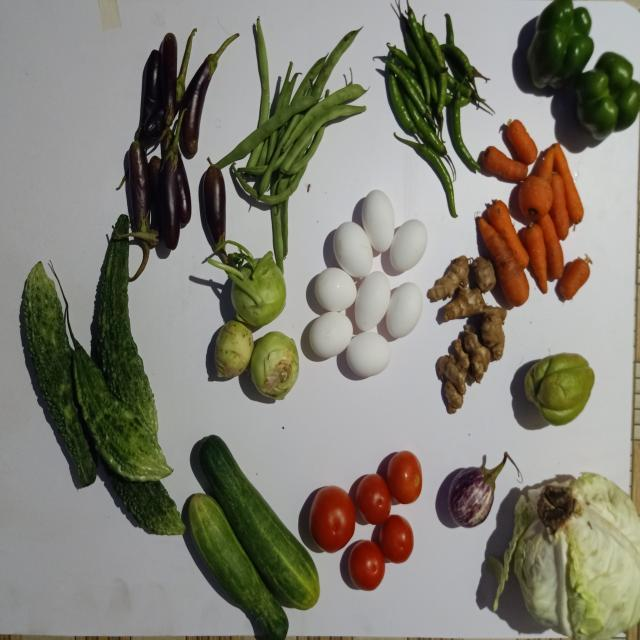Beans: (216, 94, 318, 168), (280, 103, 366, 171), (283, 83, 366, 148), (286, 124, 325, 174), (256, 16, 270, 126), (255, 180, 299, 205), (247, 141, 263, 166), (341, 84, 366, 97), (299, 168, 304, 177)
Bitter Gourd: (21, 261, 95, 487), (72, 340, 172, 482), (95, 236, 157, 437), (104, 464, 185, 535)
Brinjal: (179, 32, 238, 158), (128, 139, 150, 230), (160, 32, 177, 127), (164, 108, 184, 167)
Cabbage: (490, 473, 640, 640)
Capsicum: (528, 0, 595, 87), (575, 51, 640, 138)
Carrot: (478, 217, 530, 306), (488, 199, 530, 268), (555, 142, 585, 223), (521, 223, 548, 293), (483, 145, 529, 180), (508, 118, 539, 164), (560, 257, 591, 299), (538, 144, 556, 182)
Chayote: (526, 353, 596, 425)
Cucumber: (199, 435, 320, 610), (188, 494, 288, 640)
Egg: (333, 221, 373, 277), (355, 271, 391, 331), (362, 189, 395, 252), (347, 331, 391, 377), (310, 311, 353, 358), (387, 282, 423, 338), (390, 219, 428, 271), (315, 267, 357, 311)
Eggplant: (449, 452, 515, 528)
Ginger: (427, 255, 470, 302)
Green Chilly: (394, 132, 458, 217), (408, 4, 445, 72), (453, 89, 481, 170), (388, 68, 419, 132), (441, 42, 476, 82)
Tomato: (309, 486, 356, 553), (387, 451, 423, 504), (349, 541, 385, 591), (356, 474, 391, 525), (379, 515, 414, 564)
Turnip: (207, 239, 286, 326), (215, 321, 299, 399), (214, 320, 254, 378)
